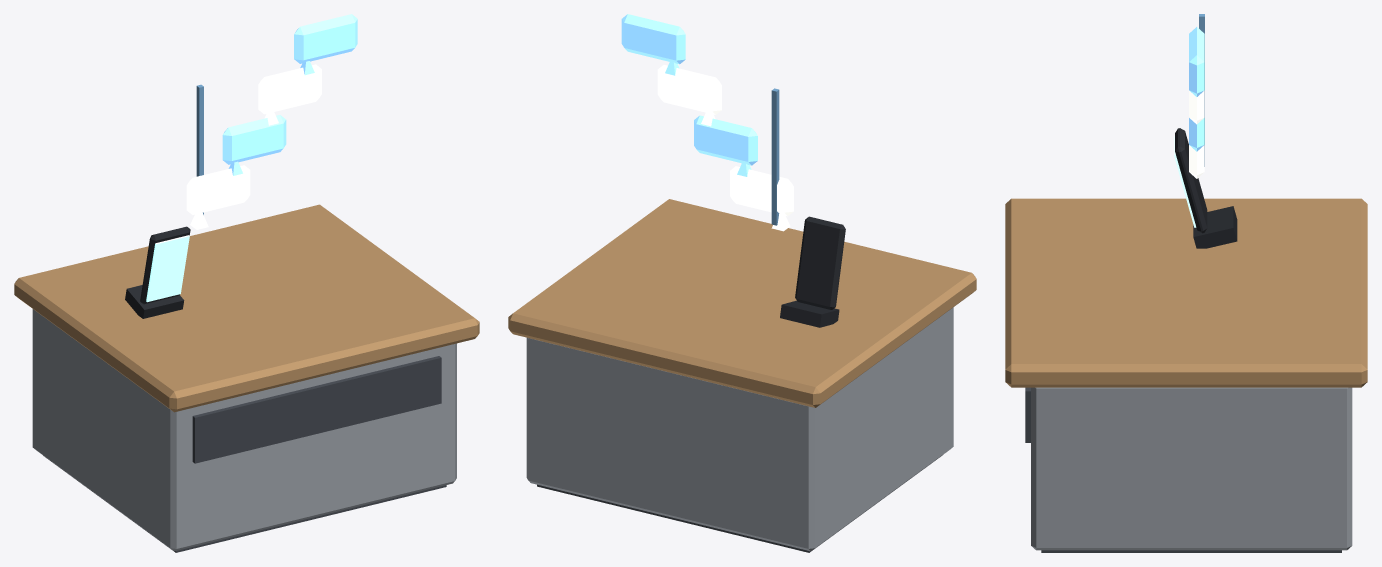
Rendered from quickreply_p1_3.glb.
3 views of the same model, side by side, from view 1: azimuth 30°, elevation 25°; view 2: azimuth 150°, elevation 25°; view 3: azimuth 270°, elevation 25° (orthographic). The views are drawn at different scales.
Parts seen in each view (by area): view 1: quickreply_p1_3_mesh_Desk, quickreply_p1_3_mesh; view 2: quickreply_p1_3_mesh_Desk, quickreply_p1_3_mesh; view 3: quickreply_p1_3_mesh_Desk, quickreply_p1_3_mesh.
Part boxes in pixels (box(x1,y1,x2,y2)): quickreply_p1_3_mesh_Desk: box(14, 204, 479, 552); quickreply_p1_3_mesh: box(125, 14, 357, 318); quickreply_p1_3_mesh_Desk: box(508, 199, 976, 552); quickreply_p1_3_mesh: box(621, 14, 845, 327); quickreply_p1_3_mesh_Desk: box(1005, 198, 1367, 552); quickreply_p1_3_mesh: box(1174, 14, 1237, 248).
Bounding box in the file's own units: 0.78 × 1.03 × 0.7.
